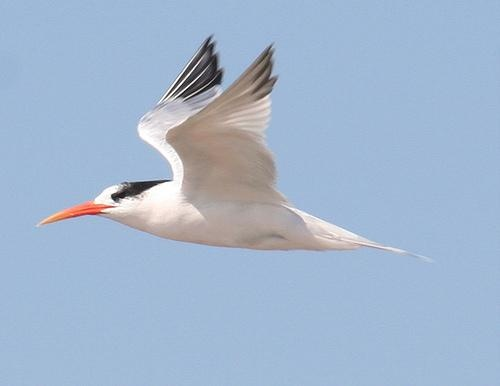bird: (35, 37, 435, 254)
